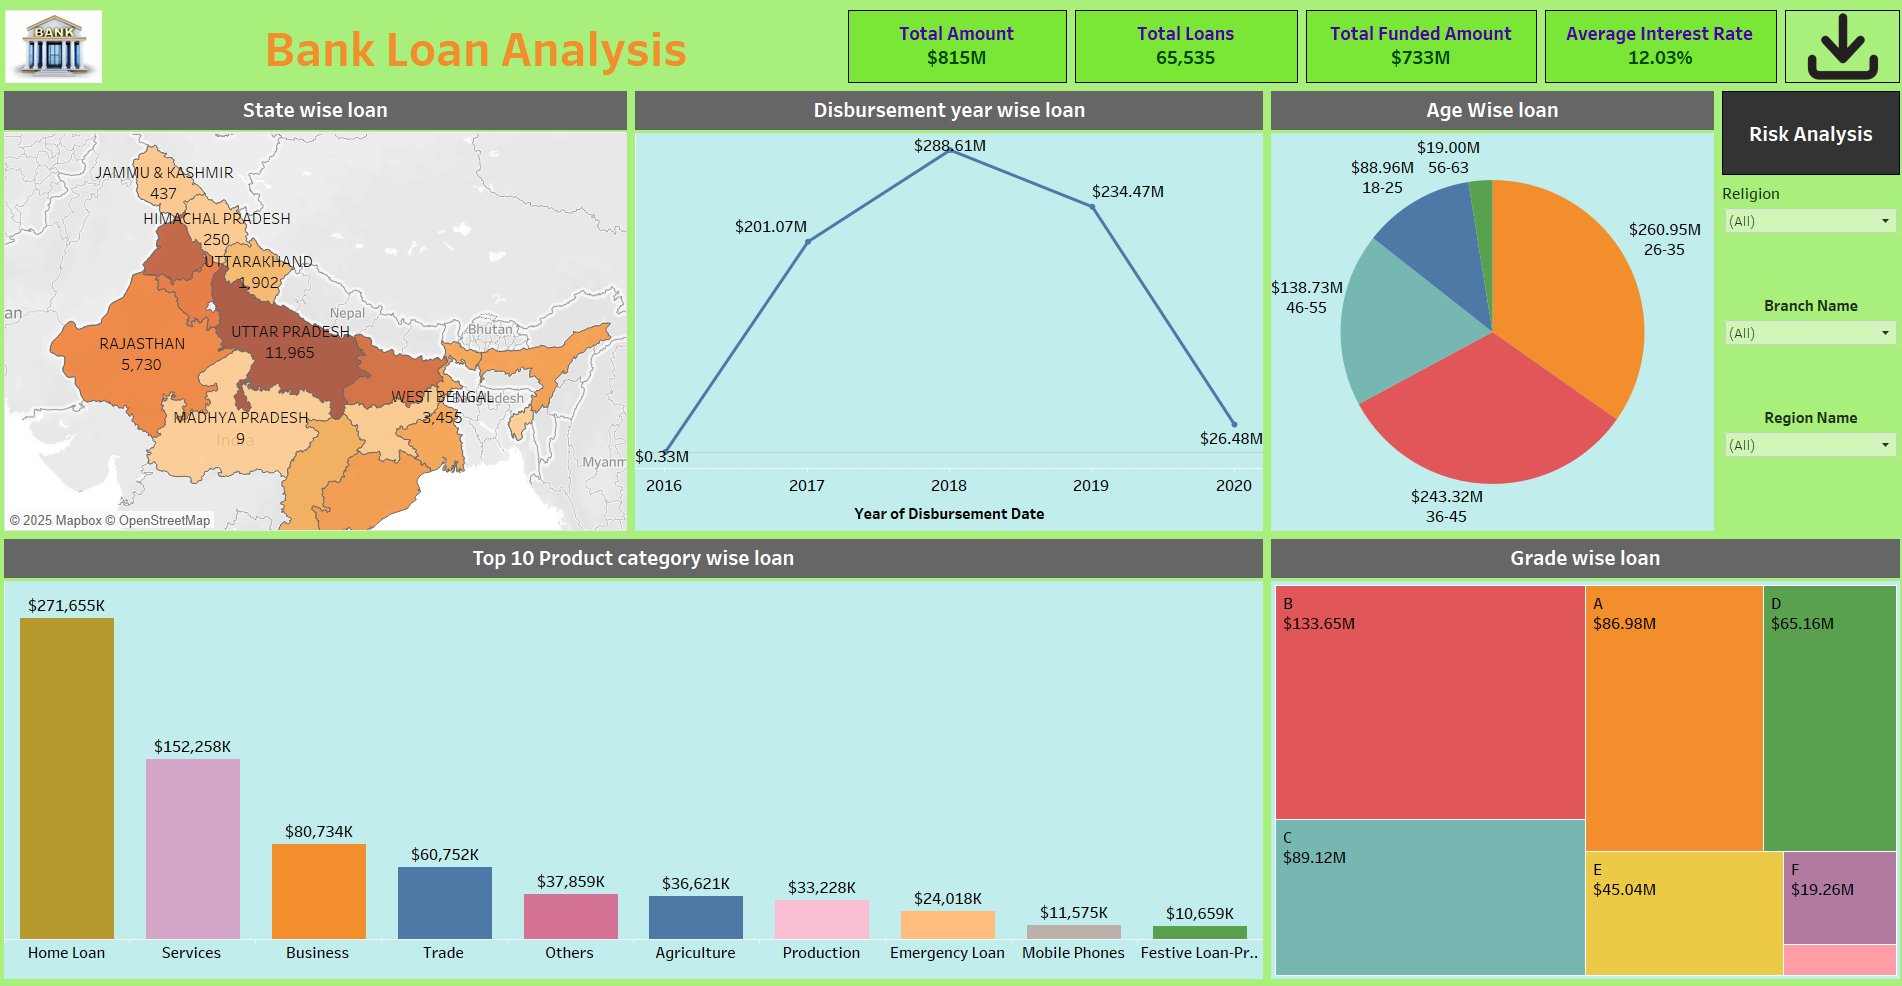

Layout of this report page (visuals, bound fields, positions):
{"tool":"tableau","page":{"name":"Bank Loan Analysis","canvas":[1000,1000],"units":"permille","ordinal":0},"visuals":[{"type":"image","param":"Image/OIP.jpeg","box":[4.8,10,56.1,81]},{"type":"text","box":[61,10,382.7,81]},{"type":"worksheet","title":"Total amount","mark":"Automatic","box":[443.7,10,118.1,81]},{"type":"worksheet","title":"Total Loan","mark":"Automatic","box":[561.8,10,120.1,81]},{"type":"worksheet","title":"Total funded amount","mark":"Automatic","box":[681.9,10,124.3,81]},{"type":"worksheet","title":"Interest Rate","mark":"Automatic","box":[806.2,10,125,81]},{"type":"dashboard-object","box":[931.2,10,64,81]},{"type":"worksheet","title":"State wise loan","mark":"Automatic","box":[4.8,91,328.1,449.5]},{"type":"worksheet","title":"Disbursement year wise loan","mark":"Automatic","rows":["Loan Amount"],"cols":["Disbursement Date"],"box":[332.9,91,331.1,449.5]},{"type":"worksheet","title":"Age Wise loan","mark":"Pie","box":[664,91,234.6,449.5]},{"type":"dashboard-object","box":[898.6,91,96.6,92.5]},{"type":"filter","title":"Total amount","param":"[federated.0yds4hb18ijchr19jztn01kqfz8w].[none:Religion:nk]","box":[898.6,183.5,96.6,112.4]},{"type":"filter","title":"State wise loan","param":"[federated.0yds4hb18ijchr19jztn01kqfz8w].[none:Branch Name:nk]","box":[898.6,295.9,96.6,112.4]},{"type":"filter","title":"State wise loan","param":"[federated.0yds4hb18ijchr19jztn01kqfz8w].[none:Region Name:nk]","box":[898.6,408.2,96.6,132.2]},{"type":"worksheet","title":"Top 10 Product category wise loan","mark":"Automatic","rows":["Funded Amount"],"cols":["Purpose Category"],"box":[4.8,540.5,659,449.5]},{"type":"worksheet","title":"Grade wise loan","mark":"Automatic","box":[663.8,540.5,331.3,449.5]}]}

Visuals, with their boxes on the dashboard's canvas, which has no fixed pixel size, in thousandths of its width and height (x1, y1, x2, y2). These are canvas units, not pixel positions in the 1902x986 screenshot, which may show the page scaled, cropped or inside an application window:
image: [x1=5, y1=10, x2=61, y2=91]
text: [x1=61, y1=10, x2=444, y2=91]
"Total amount" worksheet: [x1=444, y1=10, x2=562, y2=91]
"Total Loan" worksheet: [x1=562, y1=10, x2=682, y2=91]
"Total funded amount" worksheet: [x1=682, y1=10, x2=806, y2=91]
"Interest Rate" worksheet: [x1=806, y1=10, x2=931, y2=91]
dashboard-object: [x1=931, y1=10, x2=995, y2=91]
"State wise loan" worksheet: [x1=5, y1=91, x2=333, y2=540]
"Disbursement year wise loan" worksheet: [x1=333, y1=91, x2=664, y2=540]
"Age Wise loan" worksheet (Pie marks): [x1=664, y1=91, x2=899, y2=540]
dashboard-object: [x1=899, y1=91, x2=995, y2=184]
"Total amount" filter: [x1=899, y1=184, x2=995, y2=296]
"State wise loan" filter: [x1=899, y1=296, x2=995, y2=408]
"State wise loan" filter: [x1=899, y1=408, x2=995, y2=540]
"Top 10 Product category wise loan" worksheet: [x1=5, y1=540, x2=664, y2=990]
"Grade wise loan" worksheet: [x1=664, y1=540, x2=995, y2=990]
